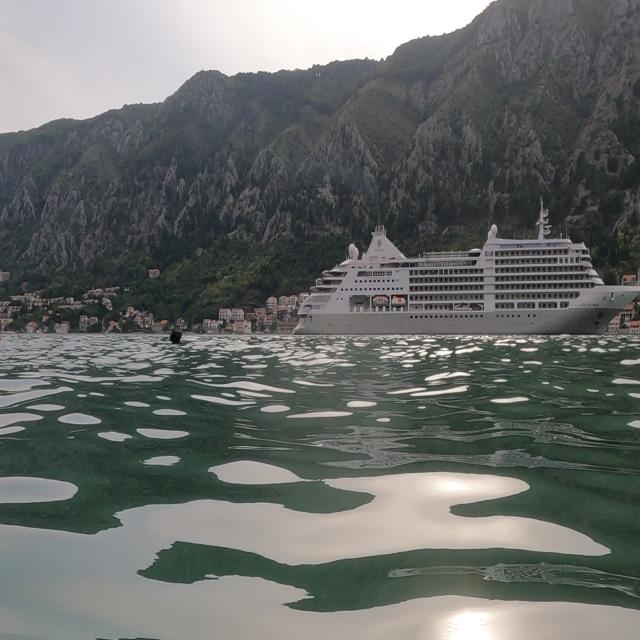boat: (290, 195, 638, 338)
buoy: (167, 314, 190, 349)
